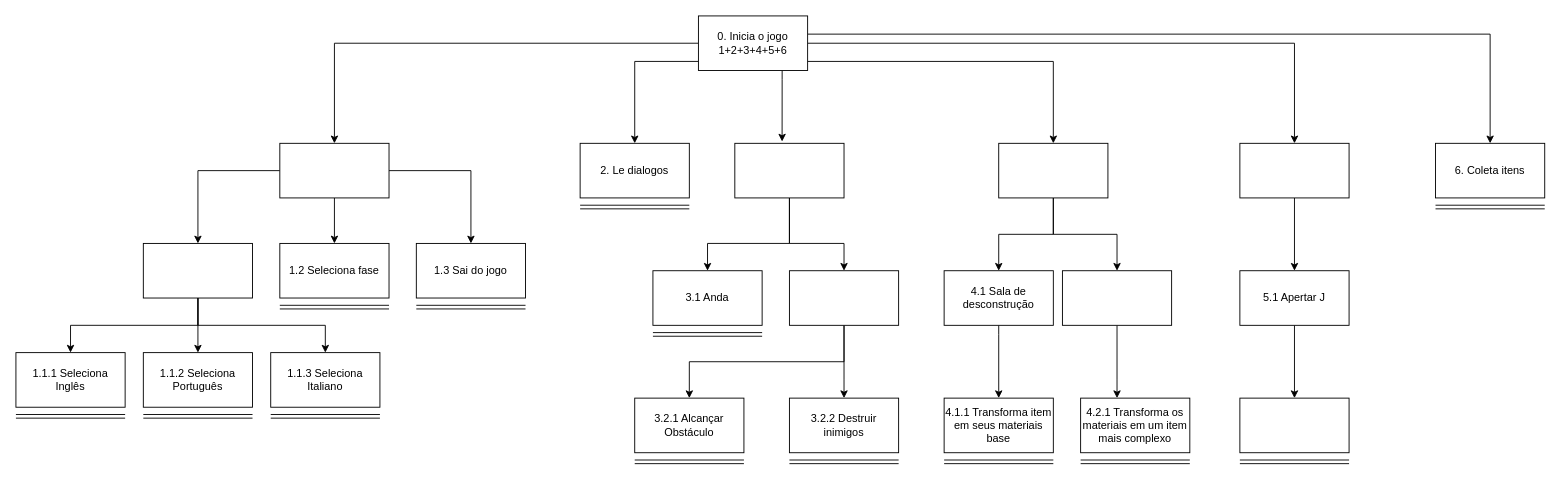
This 1561x480 diagram has some shape labels left out. The shapes that lost their labels are listed below. From the top down, each one's centre as x and y in pixels, then its label:
the point at 334,170: 1. Pausa 1.1 / 1.2 / 1.3
the point at 789,170: 3. Se movimenta 3.1 + 3.2
the point at 1053,170: 4. Interação com portas 4.1/4.2
the point at 1294,170: 5. Interação com itens complexos
the point at 197,270: 1.1 Seleciona Idioma 1.1.1 / 1.1.2 / 1.1.3
the point at 844,297: 3.2 Pula 3.2.1 / 3.2.2
the point at 1117,297: 4.2 Sala de construção
the point at 1294,425: 5.1.1 Coletar itens
